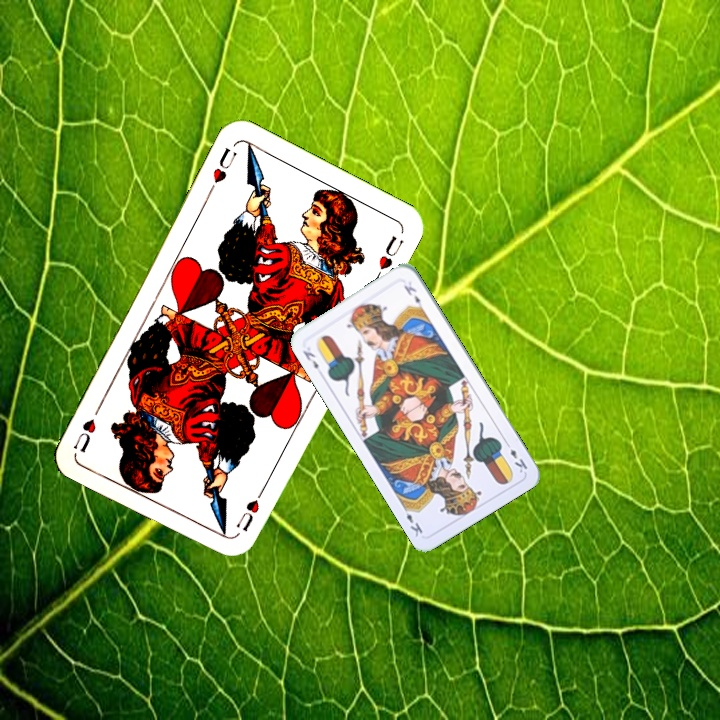EK: (501, 437, 530, 476), (299, 346, 321, 372)
HU: (204, 143, 240, 195), (232, 495, 262, 535)
